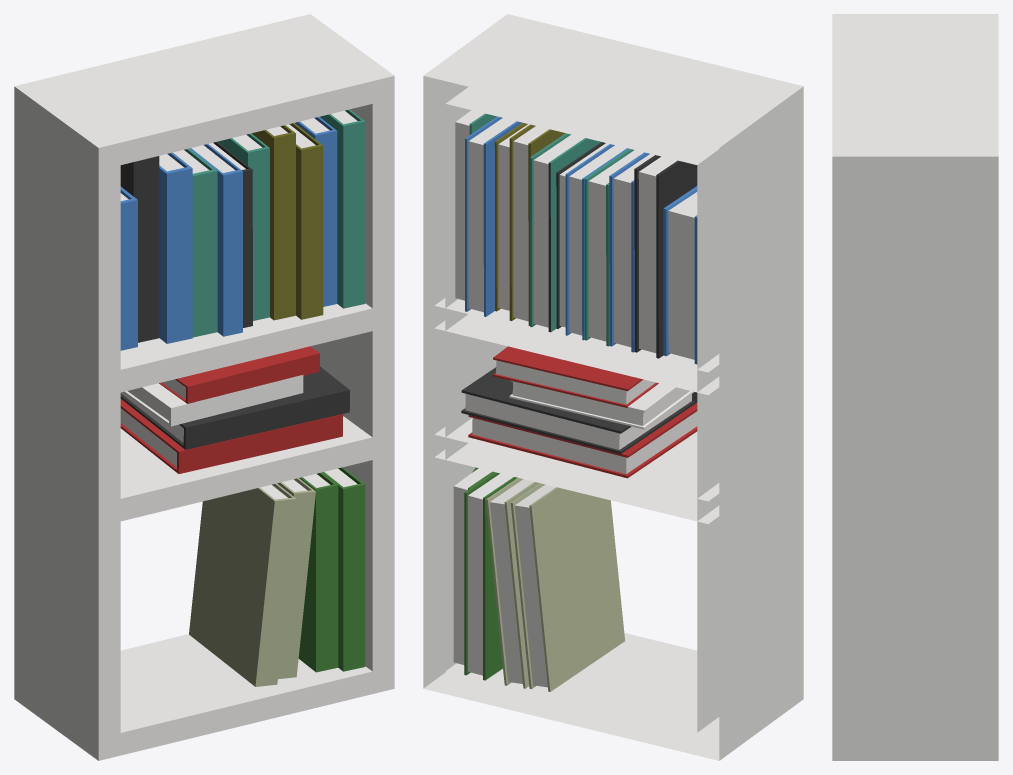
File: Shelf_with_books_3.fbx
3 renders of one model, left to right at view 1: azimuth 30°, elevation 25°; view 2: azimuth 150°, elevation 25°; view 3: azimuth 270°, elevation 25°, orthographic.
Parts seen in each view (by area): view 1: Shelf_with_books_3; view 2: Shelf_with_books_3; view 3: Shelf_with_books_3.
Boxes of the visible parts, left/top/right/bottom form: Shelf_with_books_3: left=14, top=14, right=394, bottom=760; Shelf_with_books_3: left=423, top=14, right=803, bottom=760; Shelf_with_books_3: left=832, top=14, right=998, bottom=760.
Size of the model in its own units: 73.73 by 36.38 by 146.
